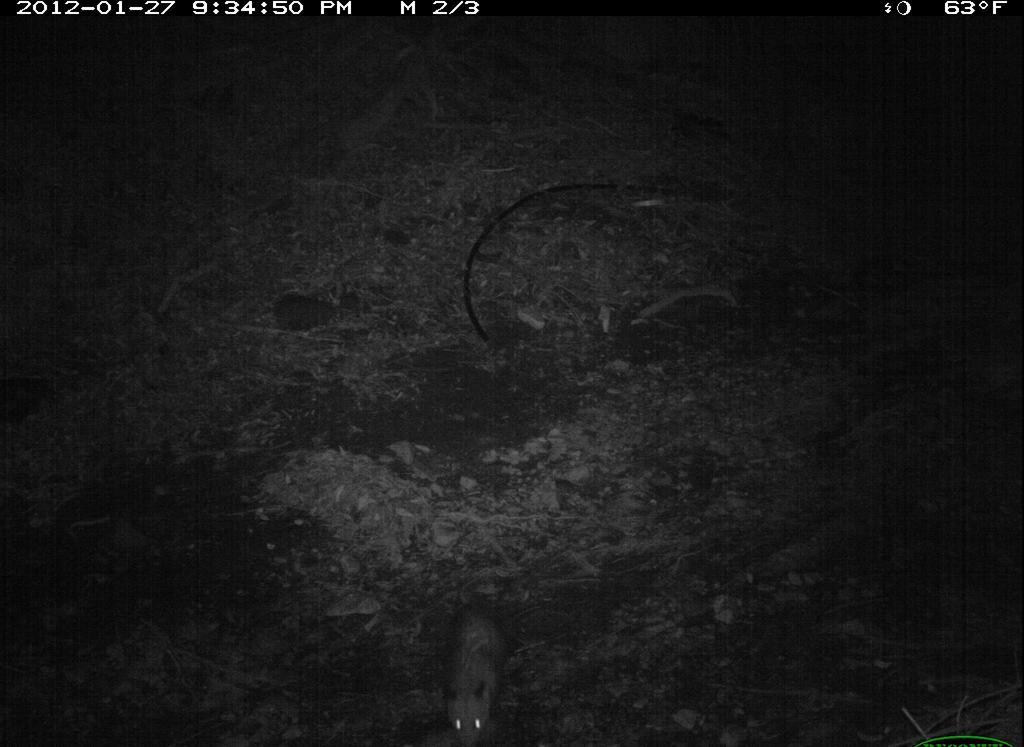opossum: (423, 574, 523, 747)
